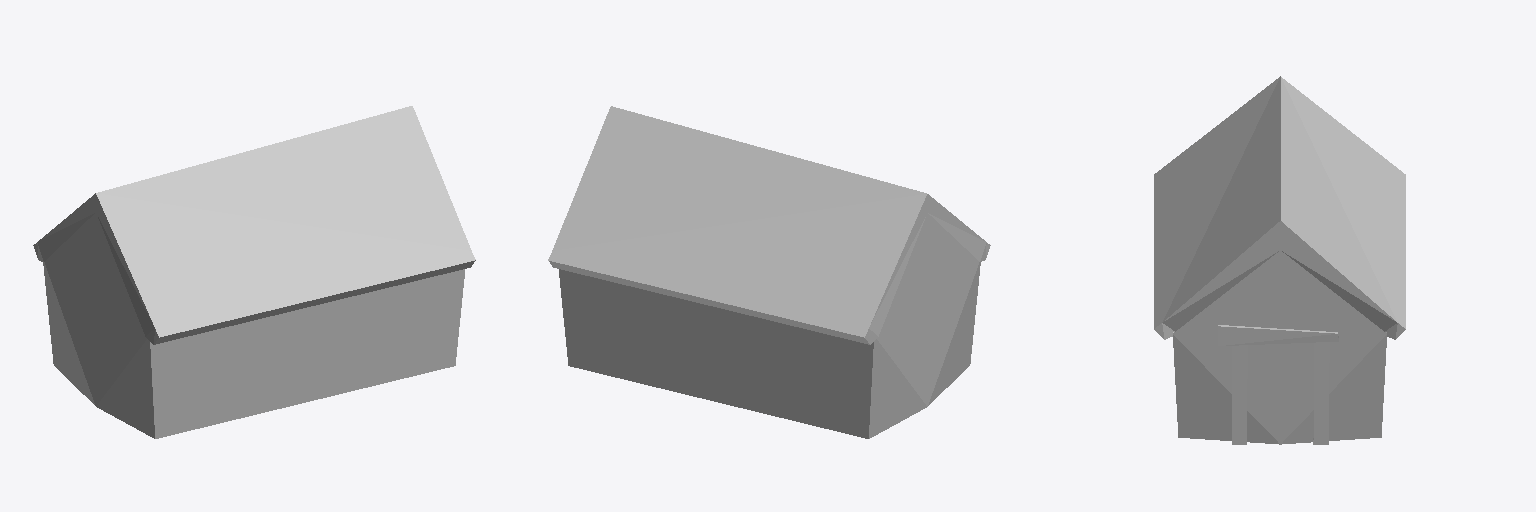
Rendered from House.obj.
The picture shows the model from 3 angles: view 1: azimuth 30°, elevation 25°; view 2: azimuth 150°, elevation 25°; view 3: azimuth 270°, elevation 25°; orthographic projection.
Parts seen in each view (by area): view 1: House_Plane.001; view 2: House_Plane.001; view 3: House_Plane.001.
Part boxes in pixels (x1,y1,x2,y2): House_Plane.001: (33, 106, 475, 438); House_Plane.001: (548, 106, 990, 438); House_Plane.001: (1154, 76, 1405, 444).
Bounding box in the file's own units: 13.74 × 9.11 × 9.29.